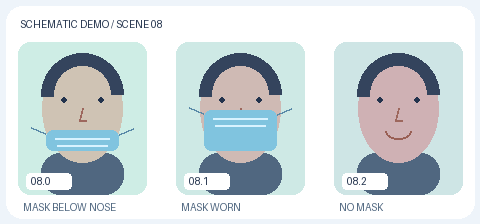mask_weared_incorrect: (18, 42, 146, 194)
with_mask: (176, 42, 304, 194), (450, 42, 480, 194)
without_mask: (334, 42, 462, 194)
